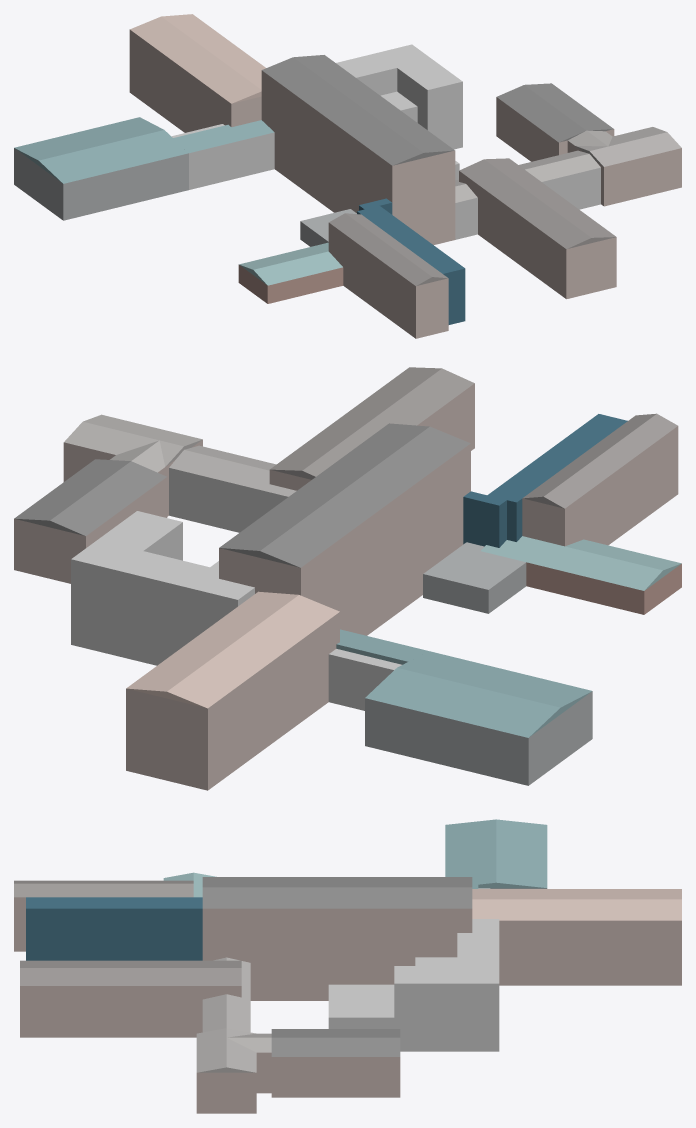
The model's file is tamk.glb.
3 renders of one model, top to bottom at view 1: azimuth 30°, elevation 25°; view 2: azimuth 150°, elevation 25°; view 3: azimuth 270°, elevation 25°, orthographic. The views are drawn at different scales.
Parts seen in each view (by area): view 1: Mesh_Mesh_head_geo.001_lambert2SG.001; view 2: Mesh_Mesh_head_geo.001_lambert2SG.001; view 3: Mesh_Mesh_head_geo.001_lambert2SG.001.
Part boxes in pixels (x1,y1,x2,y2): Mesh_Mesh_head_geo.001_lambert2SG.001: (14, 14, 681, 338); Mesh_Mesh_head_geo.001_lambert2SG.001: (14, 367, 681, 790); Mesh_Mesh_head_geo.001_lambert2SG.001: (14, 819, 681, 1113).
Size of the model in its own units: 198 by 36 by 223.
